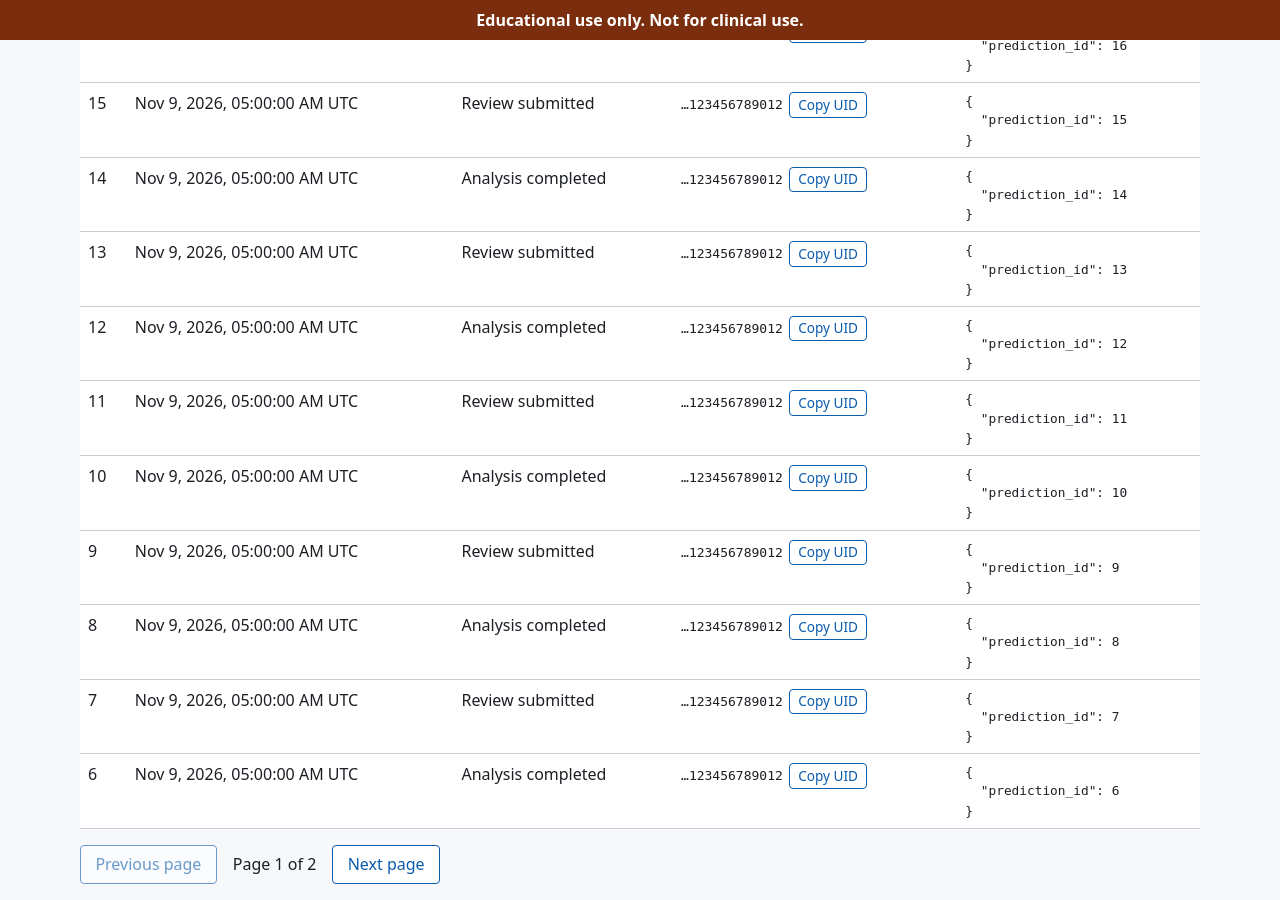
Test: audit page › shows the total, newest first, 25 per page, and pages through
(page scrolled)
Check: the button "Previous page" is disabled, box [80,845,217,884]
Check: the text "Page 1 of 2" is shown, box [233,852,316,876]
Click the button "Next page" at [386, 864], box [332,845,440,884]
(page scrolled)
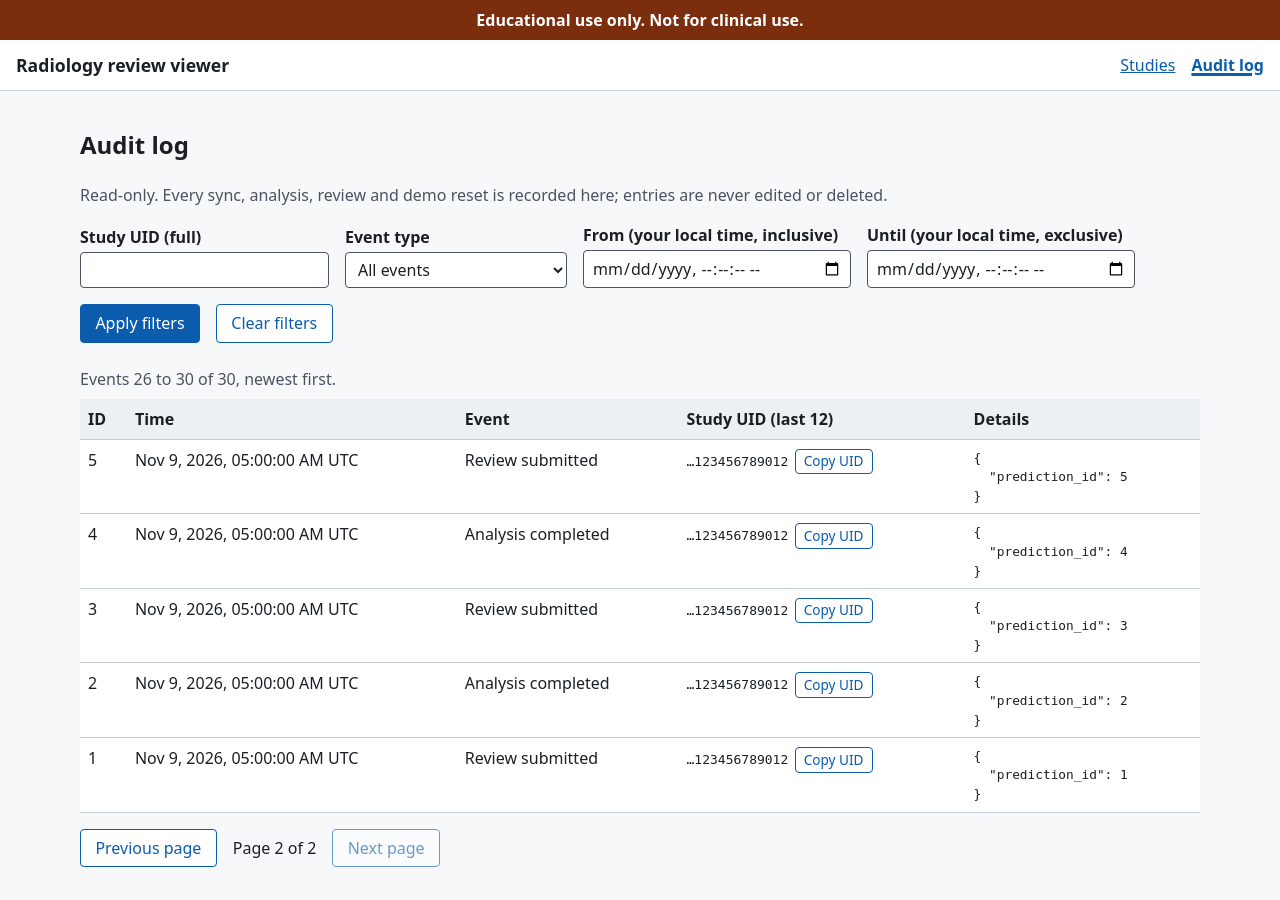
Check: the text "Events 26 to 30 of 30, newest first." is shown, box [80,368,336,390]
Check: the button "Next page" is disabled, box [332,829,440,867]
